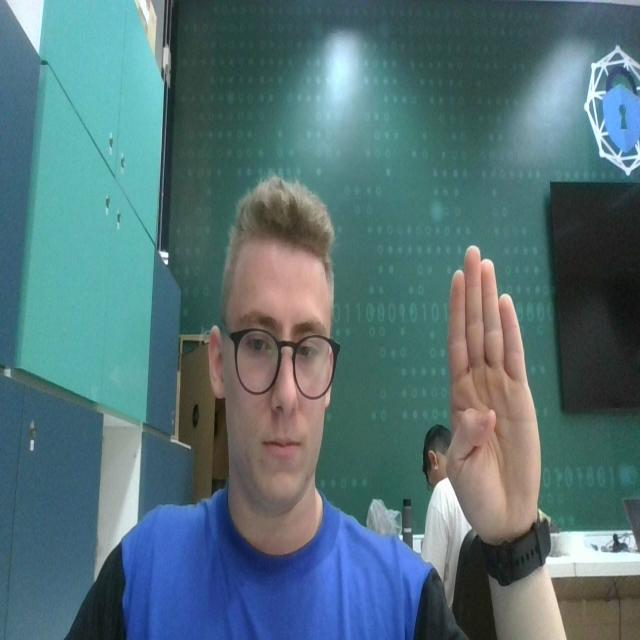B: (443, 242, 542, 524)
